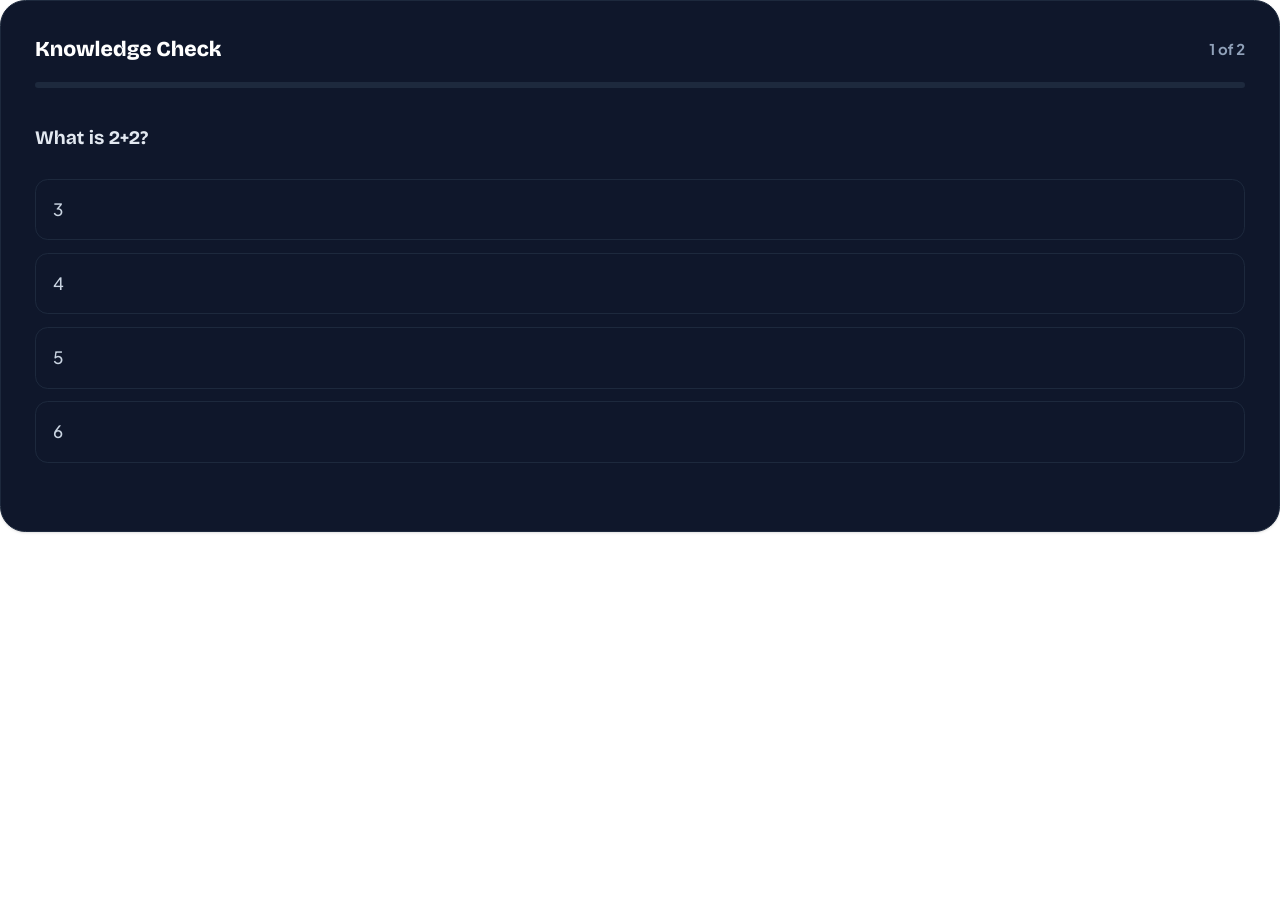
Quiz › clicking correct answer shows correct feedback
The width and height of the screenshot is (1280, 900).
Step 1. Click the button "4" → (58, 283), box [35, 253, 1245, 314]
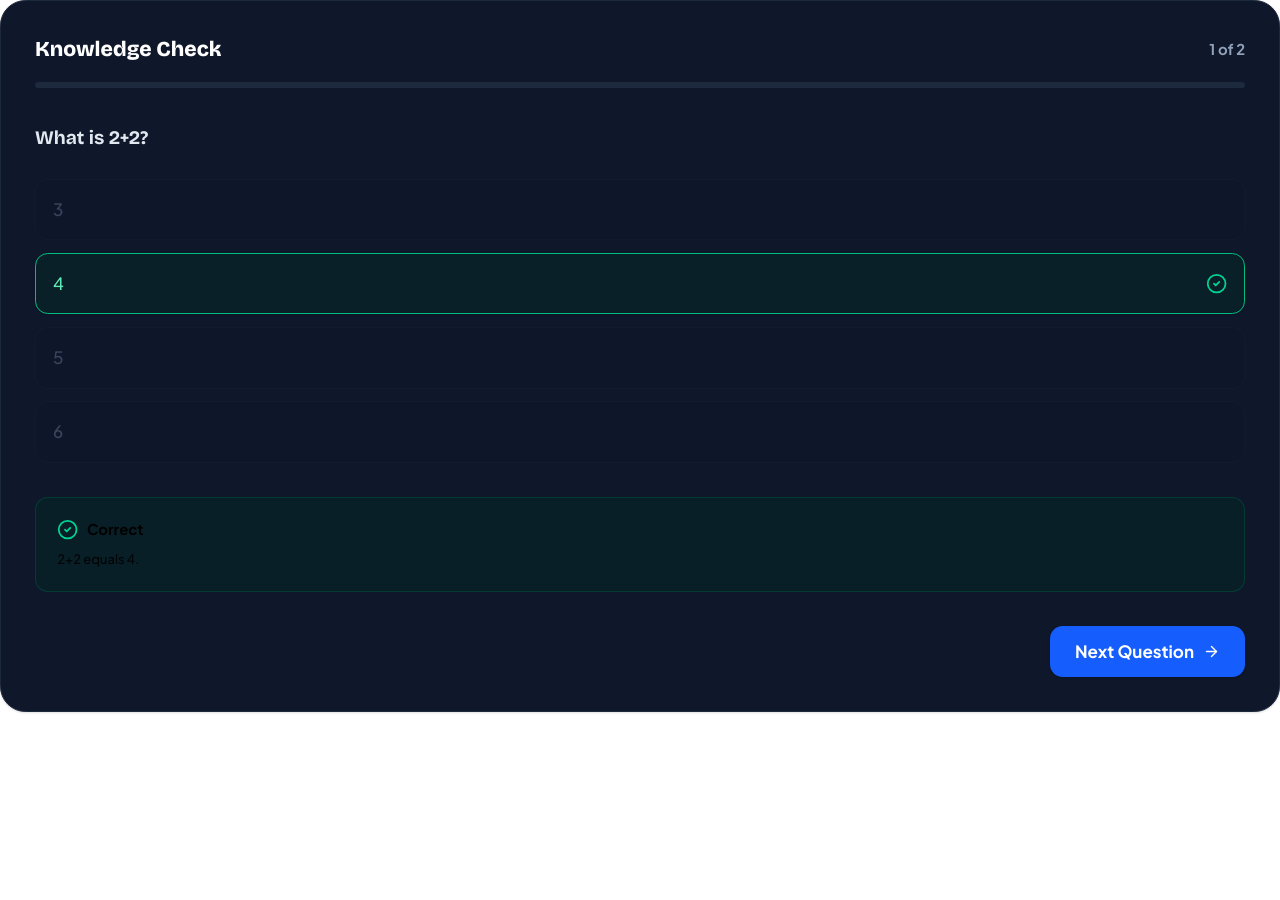
Expected: the text "Correct" is shown, [57, 519, 144, 540]
Expected: the text "2+2 equals 4." is shown, [57, 551, 139, 567]
